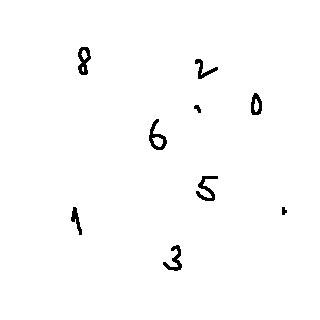.: (280, 200, 289, 221)
0: (242, 85, 268, 122)
1: (61, 198, 95, 243)
2: (186, 51, 229, 85)
3: (159, 233, 188, 276)
5: (195, 168, 223, 214)
6: (138, 112, 175, 164)
8: (76, 41, 95, 83)
